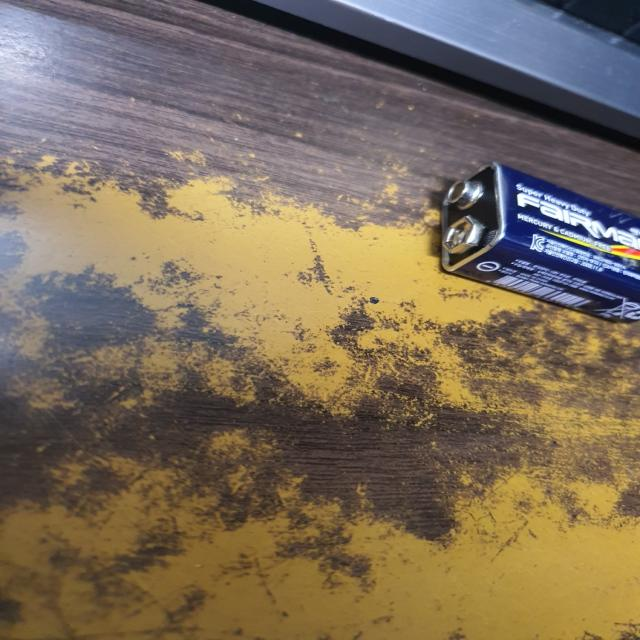battery-etc-etc: (420, 162, 640, 326)
